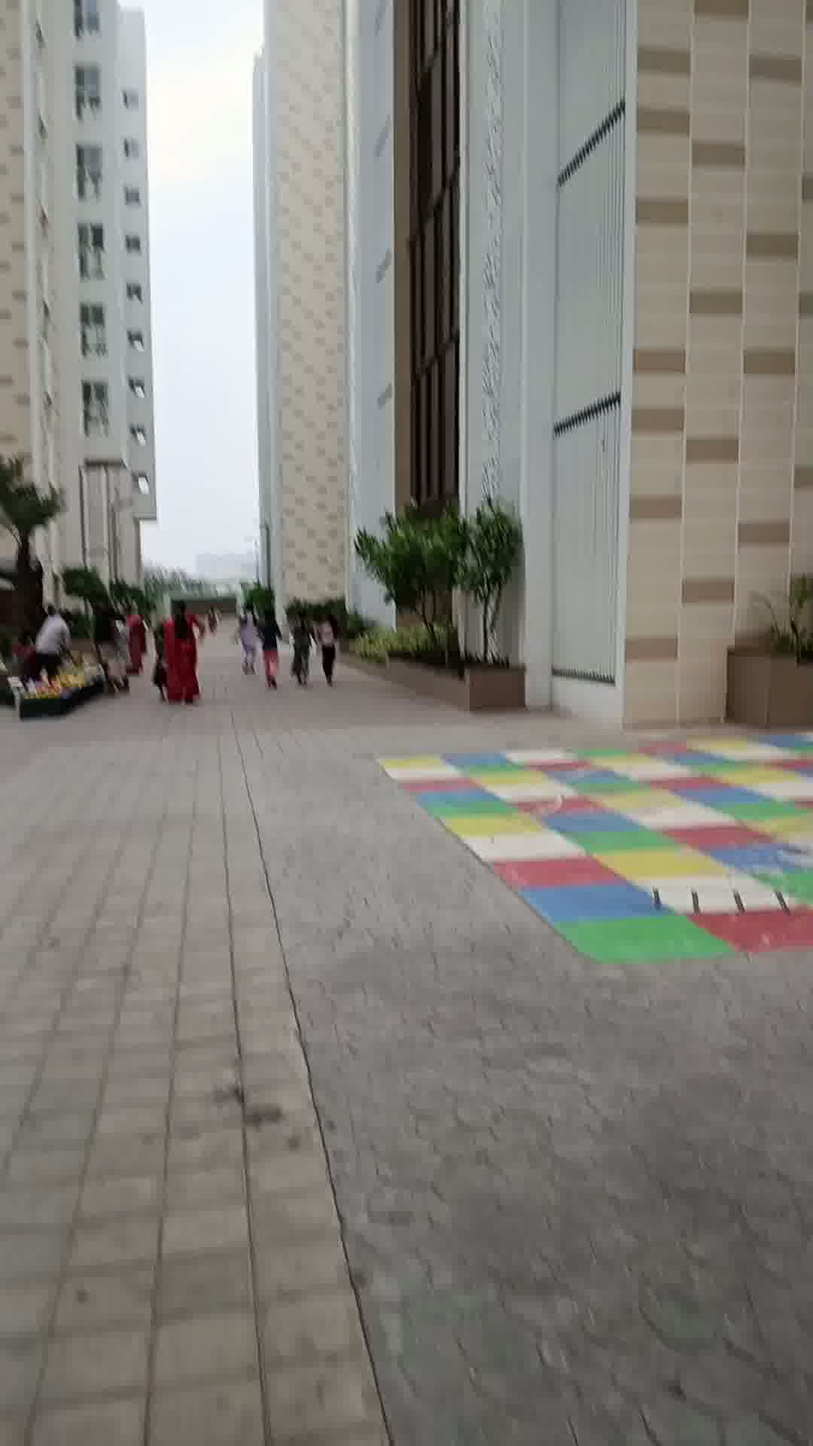person: (154, 585, 220, 716), (254, 596, 293, 698), (310, 596, 347, 688), (118, 593, 150, 680), (291, 606, 315, 690)
tree: (354, 490, 475, 667), (451, 493, 517, 679)
